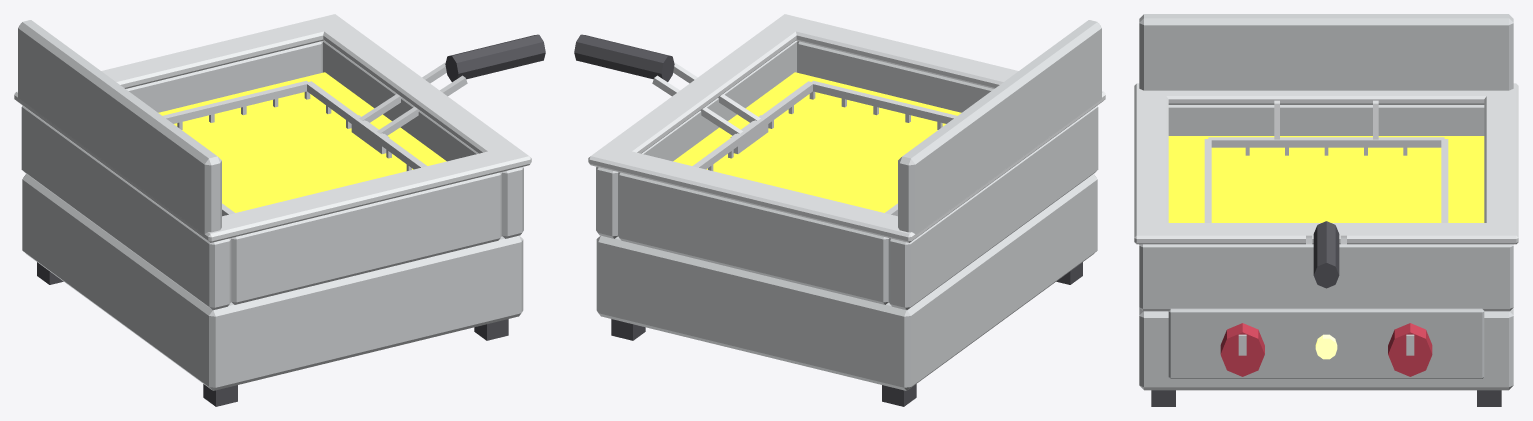
Rendered from freidora.glb.
The picture shows the model from 3 angles, left to right: view 1: azimuth 30°, elevation 25°; view 2: azimuth 150°, elevation 25°; view 3: azimuth 270°, elevation 25°; orthographic projection. The views are drawn at different scales.
Parts seen in each view (by area): view 1: freidora_cuerpo_acero_freidora, freidora_cuerpo_cromo, freidora_aceite_aceite, freidora_canasta_alambre, freidora_canasta_mango_negro, freidora_cuerpo_mango_negro; view 2: freidora_cuerpo_acero_freidora, freidora_cuerpo_cromo, freidora_aceite_aceite, freidora_canasta_alambre, freidora_canasta_mango_negro, freidora_cuerpo_mango_negro; view 3: freidora_cuerpo_acero_freidora, freidora_aceite_aceite, freidora_cuerpo_cromo, freidora_cuerpo_panel, freidora_canasta_alambre, freidora_cuerpo_perilla_roja, freidora_canasta_mango_negro, freidora_cuerpo_mango_negro, freidora_cuerpo_luz_piloto.
Boxes of the visible parts, x1,y1,x2,y2 form: freidora_cuerpo_acero_freidora: [18, 20, 523, 390]; freidora_cuerpo_cromo: [14, 14, 531, 242]; freidora_aceite_aceite: [158, 72, 446, 212]; freidora_canasta_alambre: [163, 63, 467, 216]; freidora_canasta_mango_negro: [445, 34, 545, 81]; freidora_cuerpo_mango_negro: [37, 262, 508, 406]; freidora_cuerpo_acero_freidora: [596, 20, 1101, 390]; freidora_cuerpo_cromo: [588, 14, 1105, 242]; freidora_aceite_aceite: [673, 72, 961, 212]; freidora_canasta_alambre: [652, 63, 956, 216]; freidora_canasta_mango_negro: [574, 34, 674, 81]; freidora_cuerpo_mango_negro: [611, 262, 1082, 406]; freidora_cuerpo_acero_freidora: [1139, 14, 1513, 390]; freidora_aceite_aceite: [1168, 136, 1484, 222]; freidora_cuerpo_cromo: [1134, 83, 1518, 355]; freidora_cuerpo_panel: [1168, 308, 1484, 378]; freidora_canasta_alambre: [1204, 100, 1448, 244]; freidora_cuerpo_perilla_roja: [1220, 323, 1432, 376]; freidora_canasta_mango_negro: [1313, 221, 1339, 288]; freidora_cuerpo_mango_negro: [1151, 390, 1501, 406]; freidora_cuerpo_luz_piloto: [1315, 334, 1337, 359].
Bounding box in the file's own units: 0.49 × 0.2778 × 0.39.
